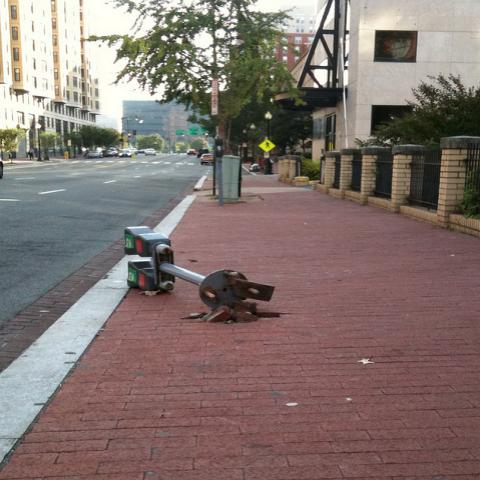car: (86, 149, 104, 159), (200, 154, 214, 166), (142, 148, 156, 156), (120, 149, 132, 158), (104, 150, 113, 156)
